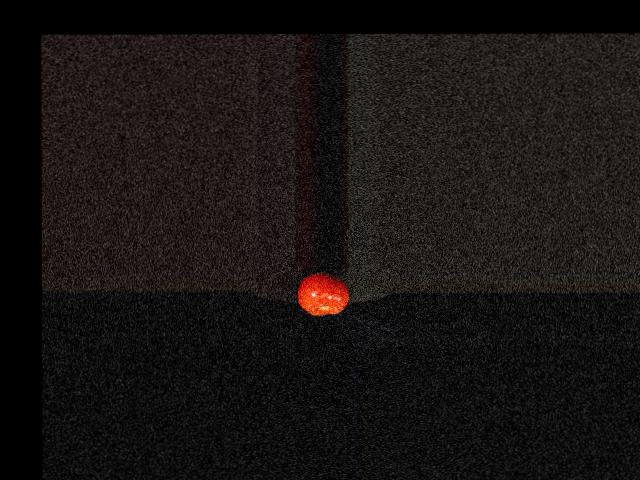tomato: (296, 271, 349, 315)
